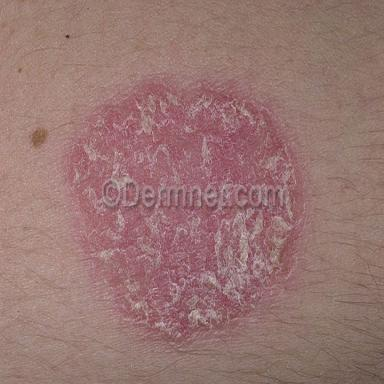Psoriasis: (63, 79, 305, 344)
